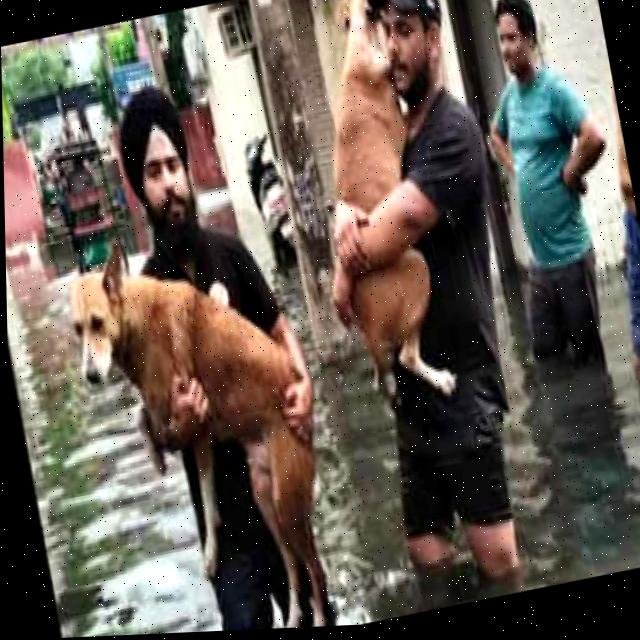civilian: (291, 0, 562, 619), (64, 62, 349, 637), (457, 0, 640, 386)
dog: (47, 205, 364, 638), (262, 0, 471, 417)
